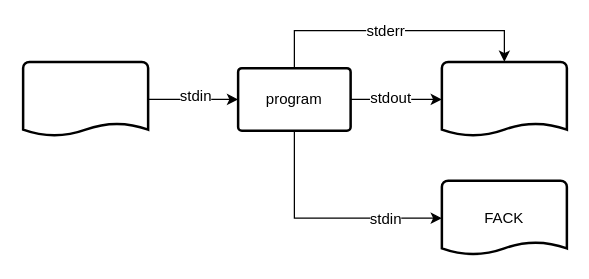
This 589x279 diagram has some shape labels left out. The box of each missing label's shape, as (x1, y1, x2, y2) in pixels:
Display: (440, 60, 568, 138)
Keyboard: (21, 60, 149, 138)
